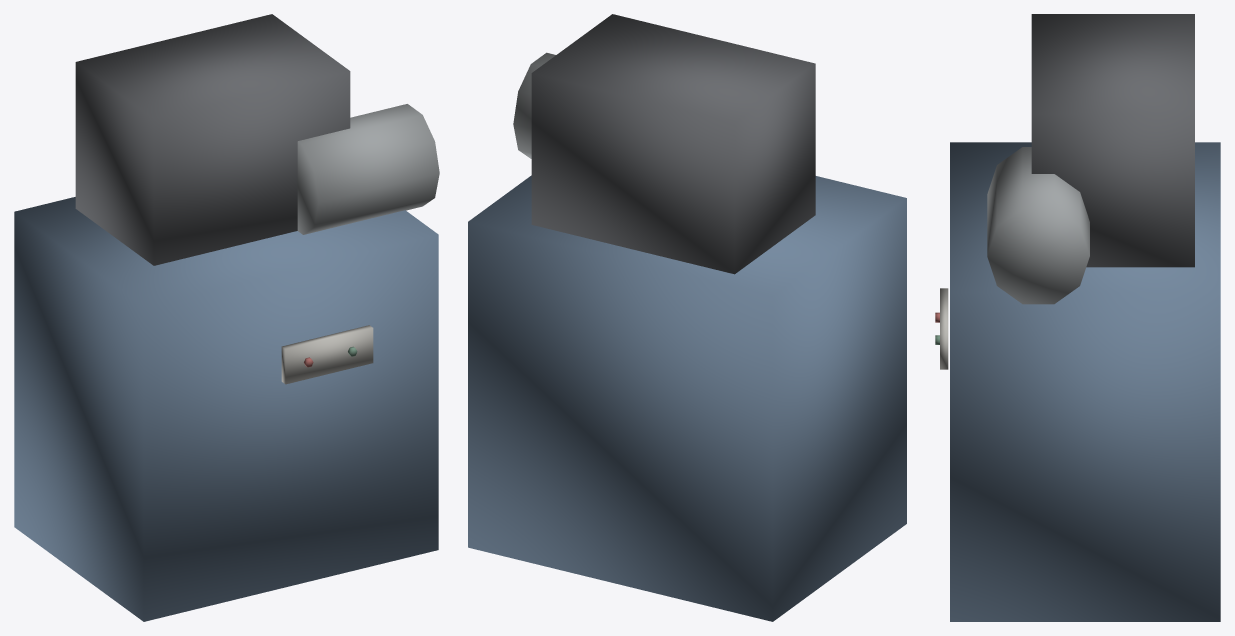
Rendered from rolling_tool_chest__compact.glb.
The picture shows the model from 3 angles, left to right: view 1: azimuth 30°, elevation 25°; view 2: azimuth 150°, elevation 25°; view 3: azimuth 270°, elevation 25°; orthographic projection. The views are drawn at different scales.
Parts seen in each view (by area): view 1: world; view 2: world; view 3: world.
Part boxes in pixels (x1,y1,x2,y2): world: (14, 14, 439, 621); world: (468, 14, 906, 621); world: (935, 14, 1220, 621).
Size of the model in its own units: 0.6972 by 0.9811 by 0.5255.
